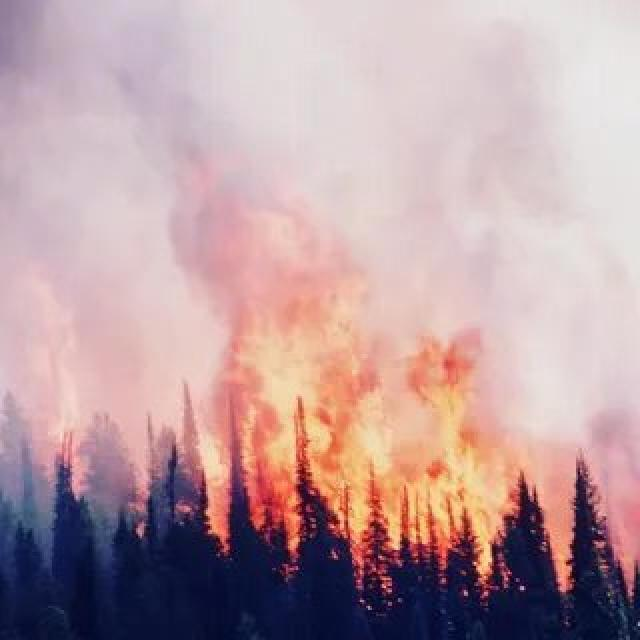Fire: (299, 386, 522, 574)
Smoke: (1, 1, 639, 354)
